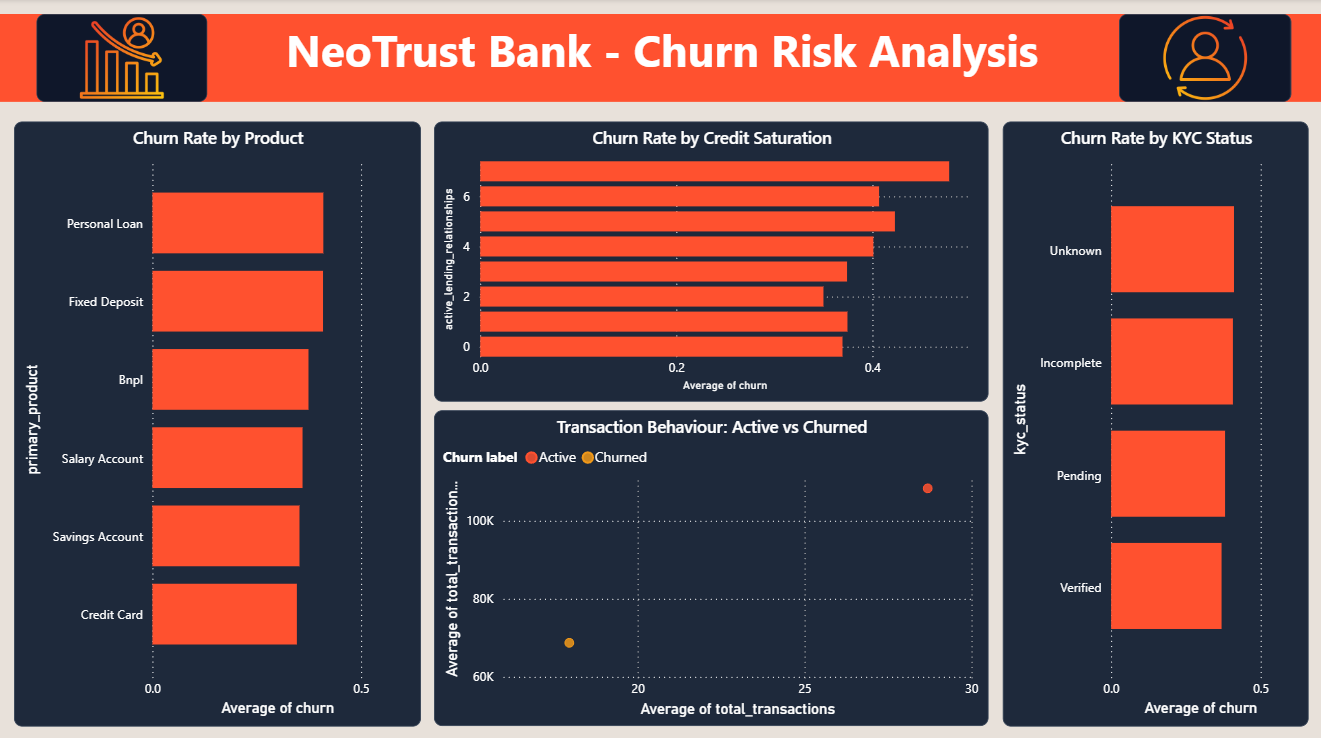

The dashboard page shown, as its layout file describes it:
{"tool":"powerbi","page":{"name":"Churn Risk Analysis","canvas":[1280,720],"ordinal":1},"visuals":[{"type":"clusteredBarChart","title":"Churn Rate by Product","fields":{"Category":["clean_master.primary_product"],"Y":["Avg(clean_master.churn)"]},"box":[15,118.8,392.5,583.8],"z":0},{"type":"textbox","box":[0,15,1280,85],"z":1000},{"type":"clusteredBarChart","title":"Churn Rate by Credit Saturation","fields":{"Category":["clean_master.active_lending_relationships"],"Y":["Avg(clean_master.churn)"]},"box":[420,118.8,535,270],"z":2000},{"type":"clusteredBarChart","title":"Churn Rate by KYC Status","fields":{"Y":["Avg(clean_master.churn)"],"Category":["clean_master.kyc_status"]},"box":[968.8,118.8,295,583.8],"z":3000},{"type":"scatterChart","title":"Transaction Behaviour: Active vs Churned","fields":{"X":["Avg(clean_master.total_transactions)"],"Y":["Avg(clean_master.total_transaction_amount)"],"Series":["clean_master.Churn label"]},"box":[420,397.5,535,305],"z":4000},{"type":"image","box":[1081.2,15,166.2,85],"z":5000},{"type":"image","box":[36.2,15,165,85],"z":6000}]}

Visuals, with their boxes in screenshot pixels (x1, y1, x2, y2), scaled from the page's 1280x720 canvas onto the 1321x738 screenshot:
"Churn Rate by Product" clusteredBarChart: pyautogui.locateOnScreen(15, 122, 421, 720)
textbox: pyautogui.locateOnScreen(0, 15, 1320, 102)
"Churn Rate by Credit Saturation" clusteredBarChart: pyautogui.locateOnScreen(433, 122, 986, 399)
"Churn Rate by KYC Status" clusteredBarChart: pyautogui.locateOnScreen(1000, 122, 1304, 720)
"Transaction Behaviour: Active vs Churned" scatterChart: pyautogui.locateOnScreen(433, 407, 986, 720)
image: pyautogui.locateOnScreen(1116, 15, 1287, 102)
image: pyautogui.locateOnScreen(37, 15, 208, 102)
